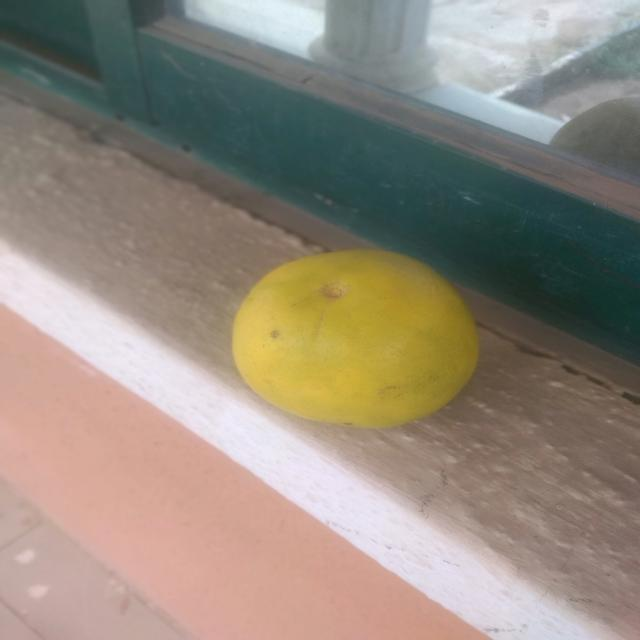Ripe orange: (220, 240, 486, 436)
